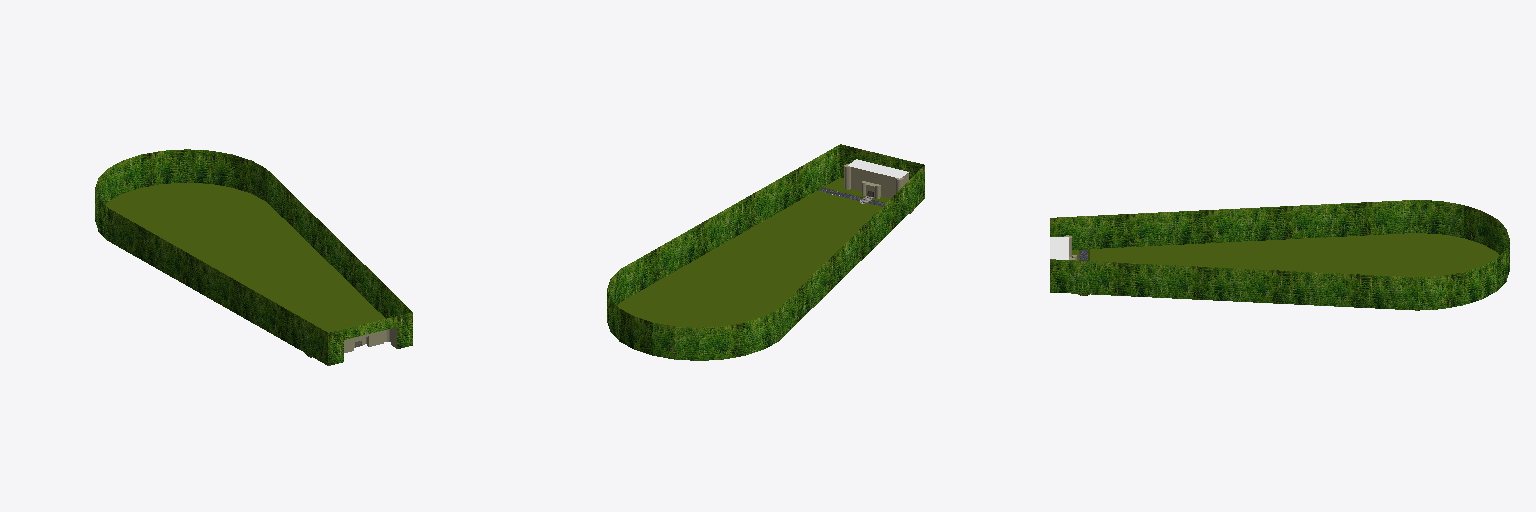
3 renders of one model, left to right at view 1: azimuth 30°, elevation 25°; view 2: azimuth 150°, elevation 25°; view 3: azimuth 270°, elevation 25°, orthographic.
Visible parts, largest first — view 1: okolje_Main-Material3, okolje_Main-Material2, okolje_Main-Stone_Coursed_Rough; view 2: okolje_Main-Material3, okolje_Main-Material2, okolje_Main-Stone_Coursed_Rough; view 3: okolje_Main-Material3, okolje_Main-Material2.
Boxes of the visible parts, x1=… form: okolje_Main-Material3: x1=95, y1=149, x2=412, y2=365; okolje_Main-Material2: x1=105, y1=183, x2=385, y2=356; okolje_Main-Stone_Coursed_Rough: x1=344, y1=327, x2=396, y2=352; okolje_Main-Material3: x1=607, y1=144, x2=924, y2=360; okolje_Main-Material2: x1=617, y1=177, x2=889, y2=327; okolje_Main-Stone_Coursed_Rough: x1=844, y1=164, x2=908, y2=198; okolje_Main-Material3: x1=1050, y1=200, x2=1509, y2=310; okolje_Main-Material2: x1=1072, y1=233, x2=1499, y2=294.
Bounding box in the file's own units: 150 × 31.5 × 375.
9 materials, 6 textured.